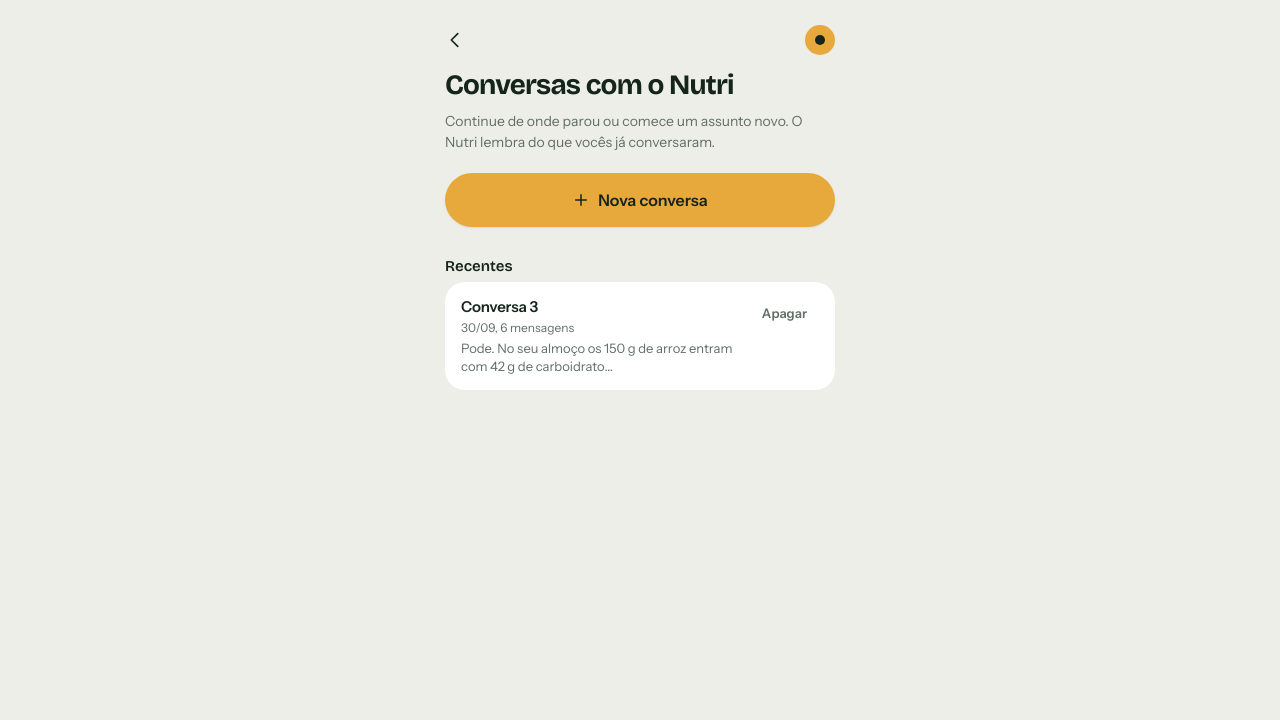
Test: Conversas (N05) › apagar a última conversa não abre outra sozinho nem deixa a tela carregando
The image size is (1280, 720).
Click the button "Apagar" at (784, 314), box [750,296,819,332]
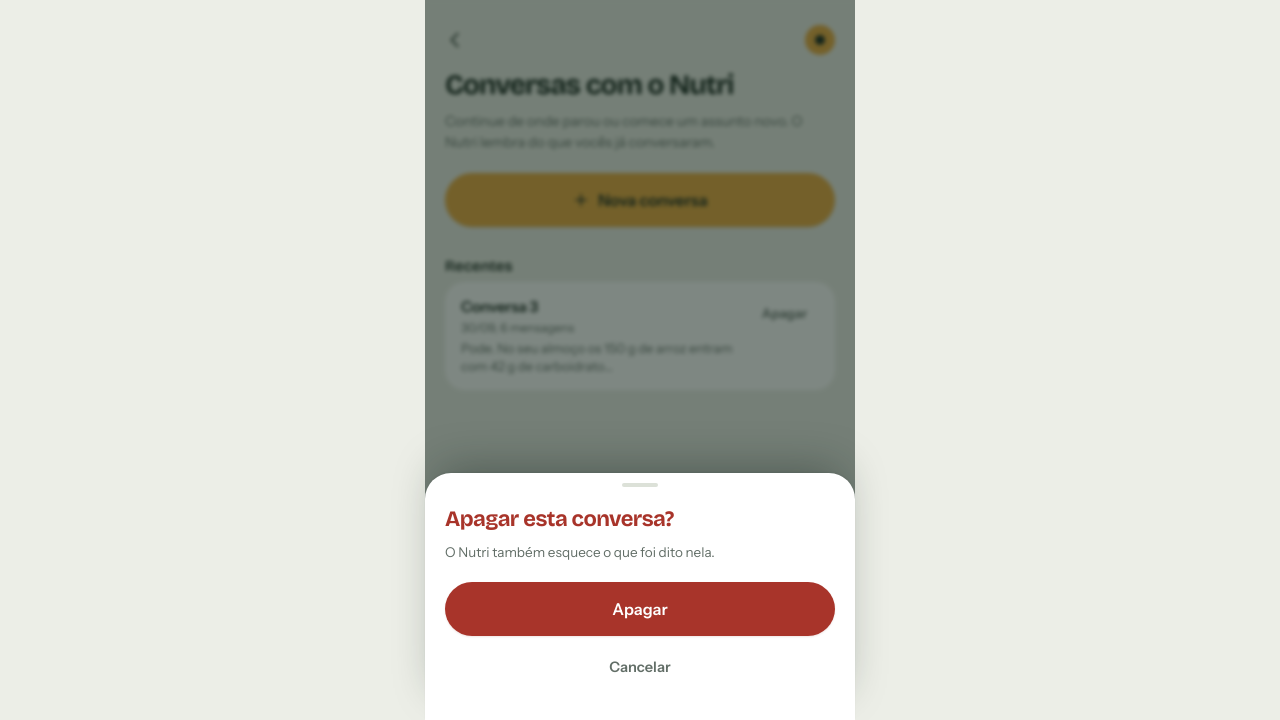
Click the button "Apagar" at (640, 609), box [445,582,835,636]
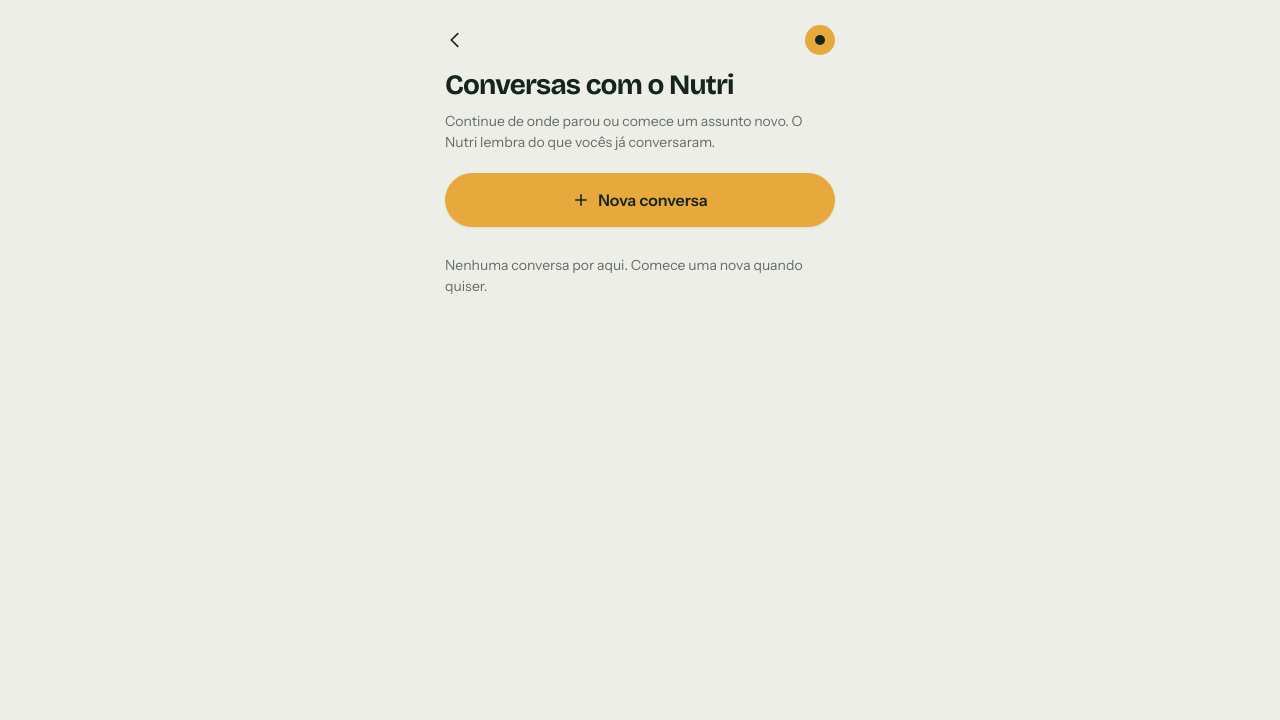
Now the text "Nenhuma conversa por aqui. Comece uma nova quando quiser." is shown, box [445,255,835,297]
